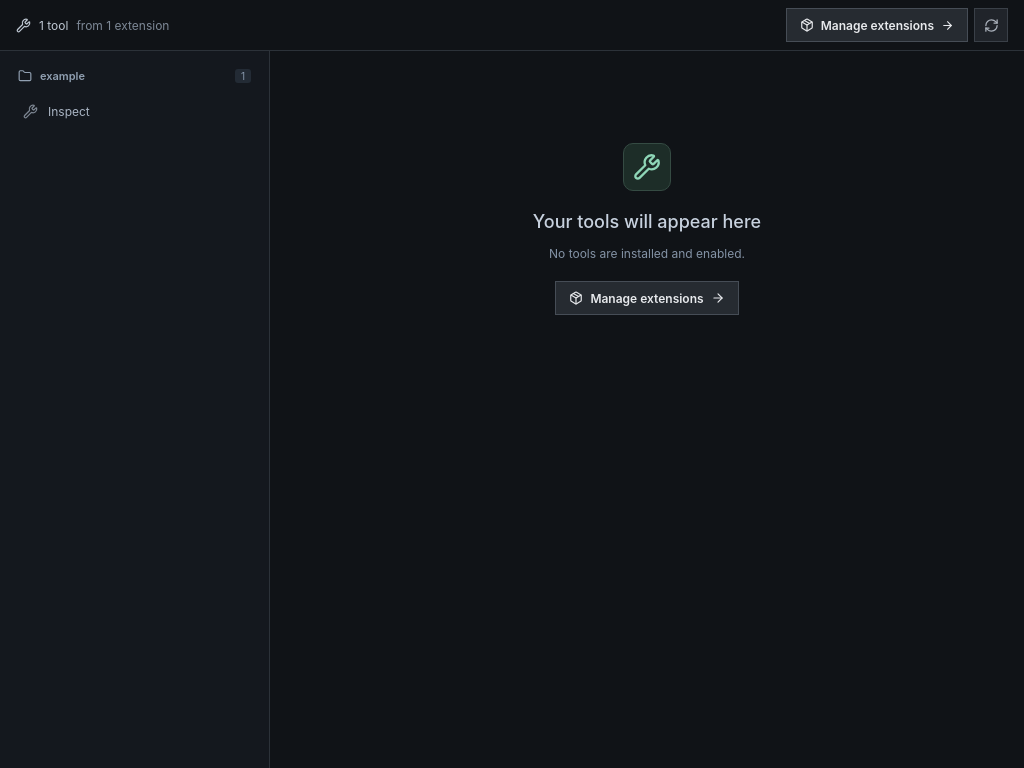
Test: ExtensionToolsPanel › requires confirmation, submits typed arguments, and displays a failed result
This screenshot has width=1024, height=768.
Click the button "Inspect": (134, 111) x1=10 y1=91 x2=259 y2=131
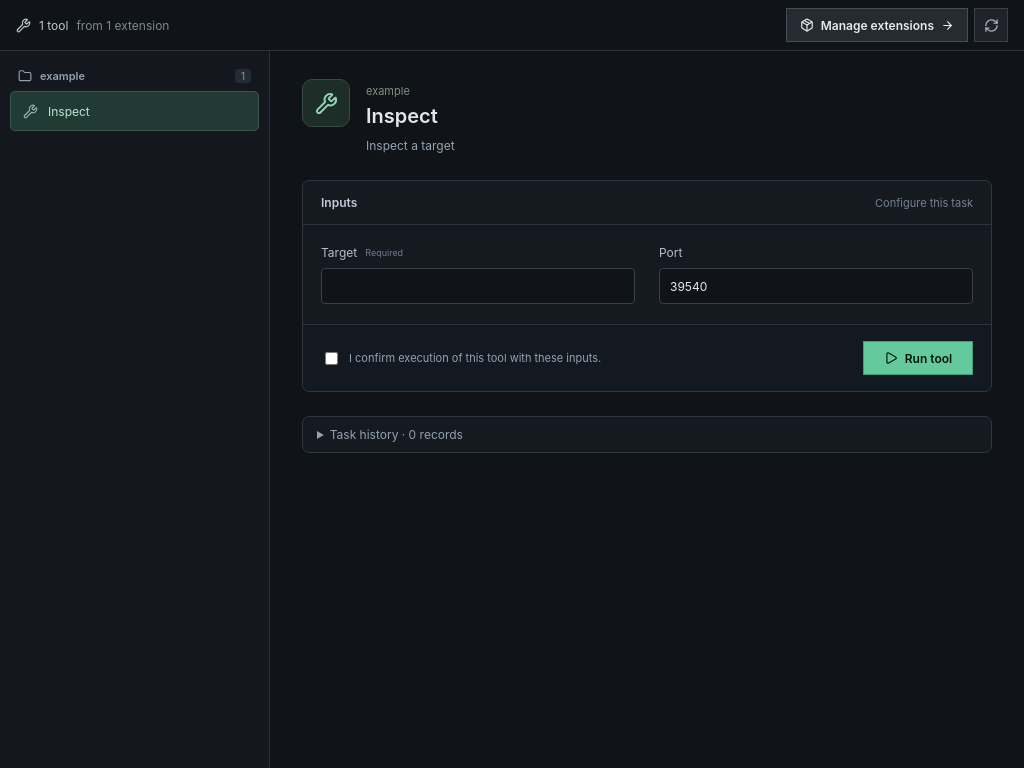
In the field labelled "Target": (478, 286) x1=321 y1=268 x2=635 y2=304, type "/games/example"
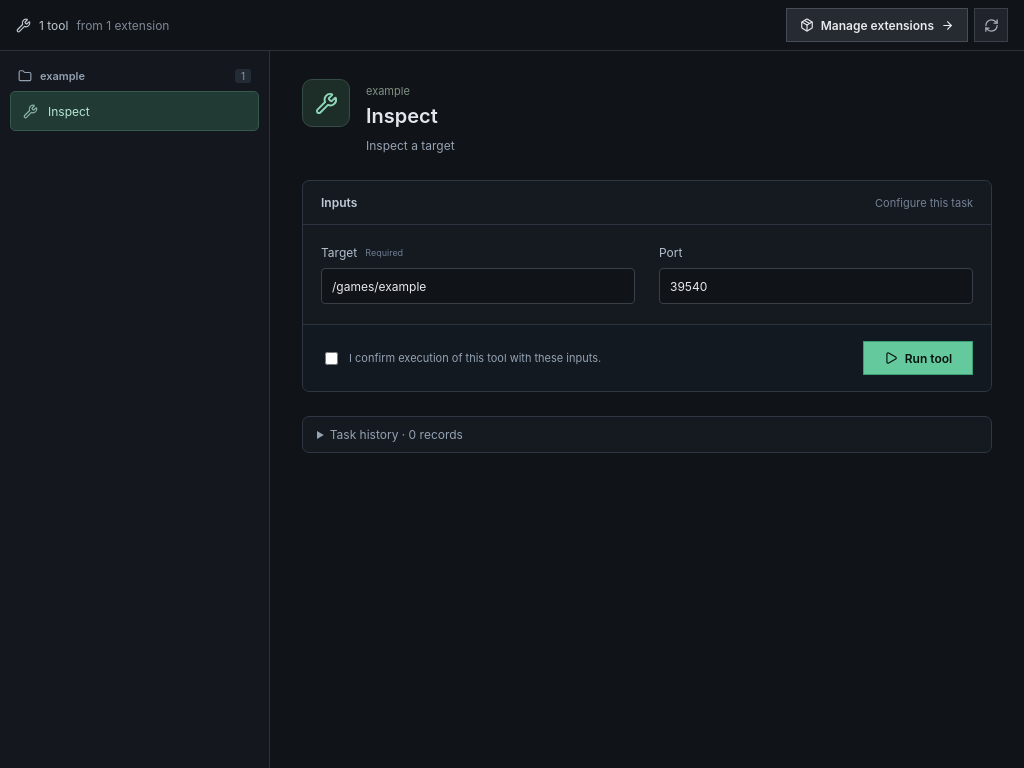
Expected: the button "Run tool" is disabled, x1=863 y1=341 x2=973 y2=375
Click the checkbox labelled "I confirm execution of this tool with these inputs.": (332, 358) x1=325 y1=352 x2=338 y2=365
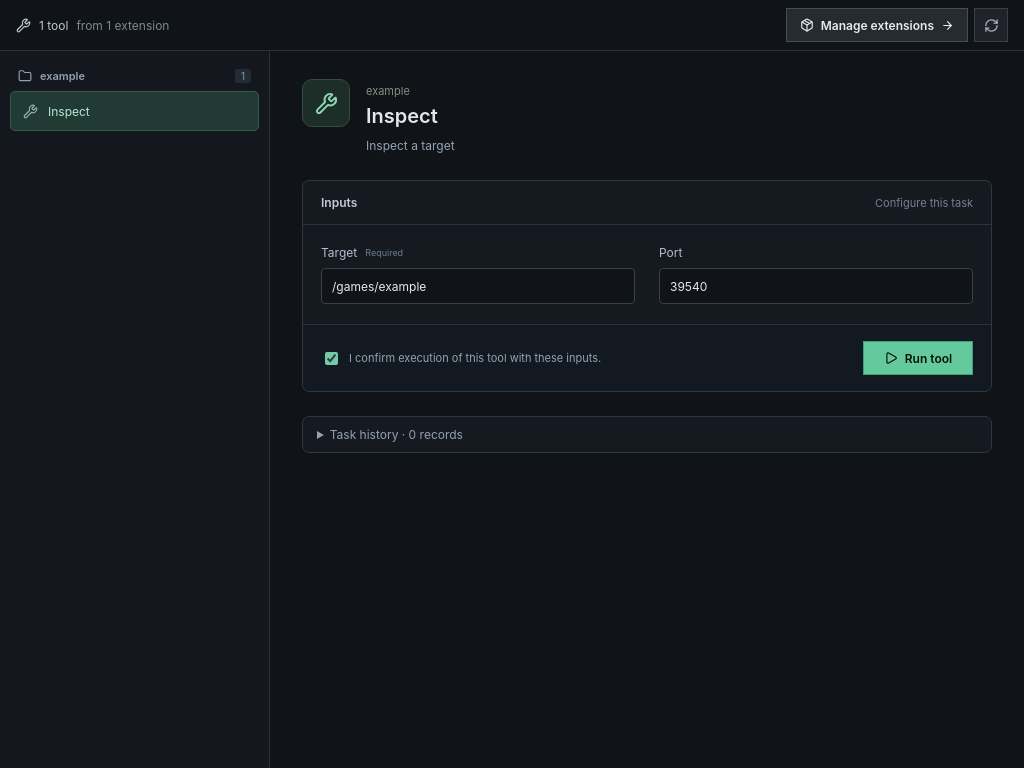
Click the button "Run tool": (918, 358) x1=863 y1=341 x2=973 y2=375
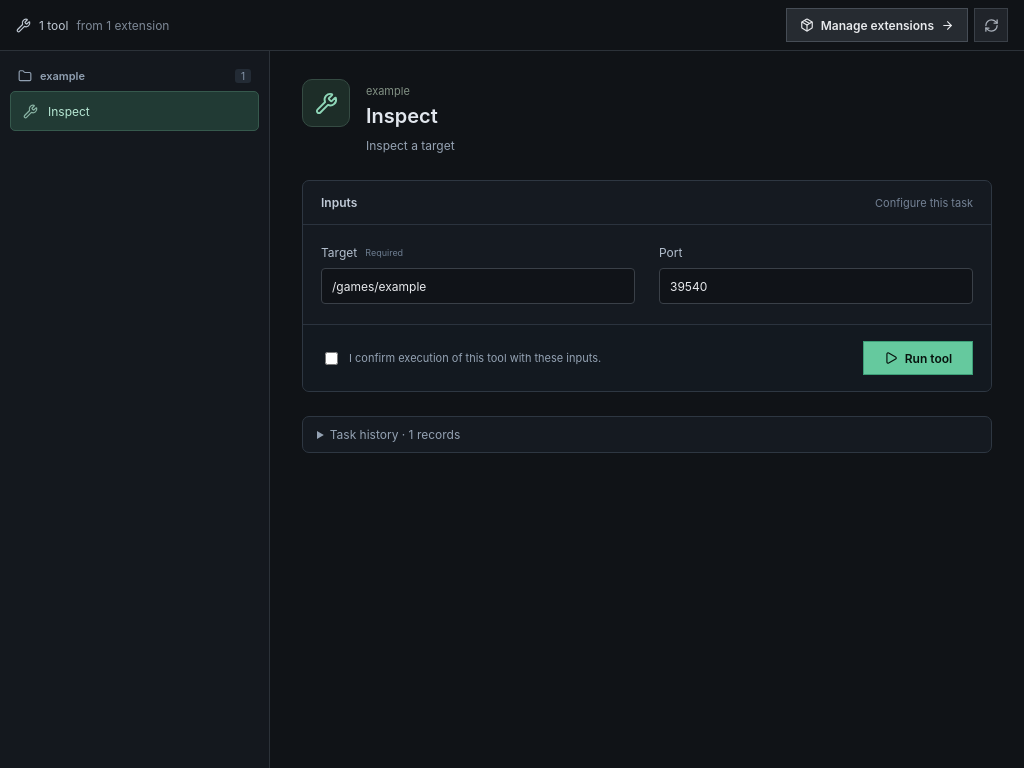
Click the heading "Task history · 1 records": (395, 435) x1=330 y1=427 x2=460 y2=442
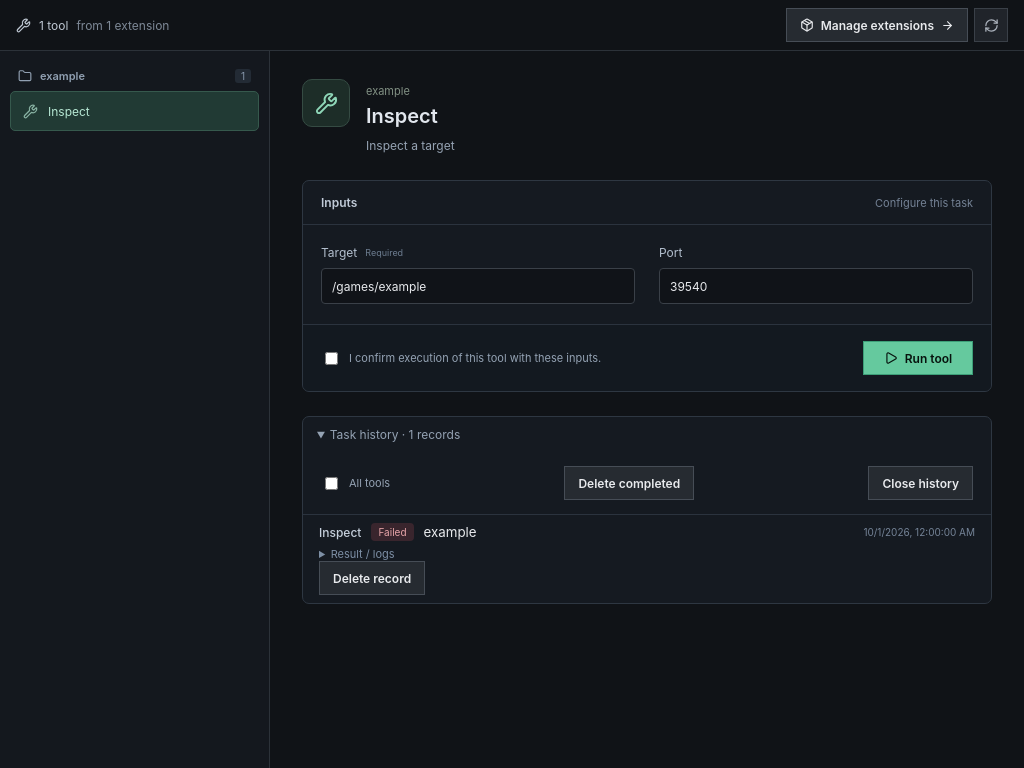
Expected: the text "Target unavailable" is not shown
Click the heading "Result / logs": (363, 554) x1=331 y1=547 x2=395 y2=561
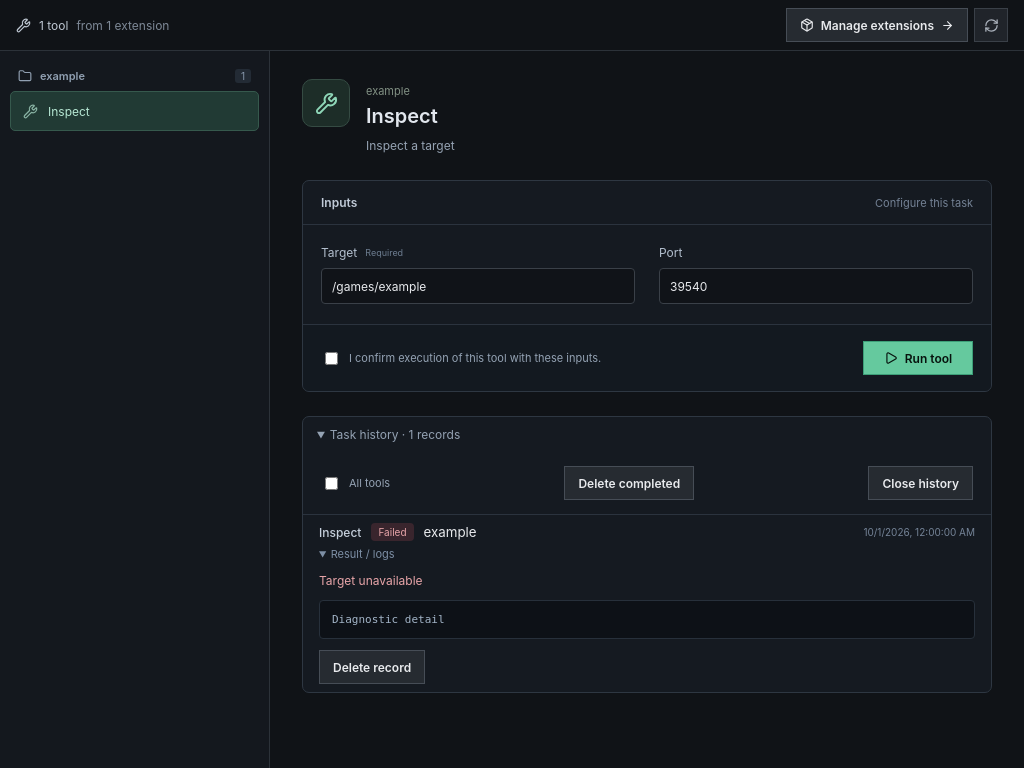
Expected: the text "Target unavailable" is shown, x1=319 y1=573 x2=423 y2=588
Expected: the text "Diagnostic detail" is shown, x1=319 y1=600 x2=975 y2=639
